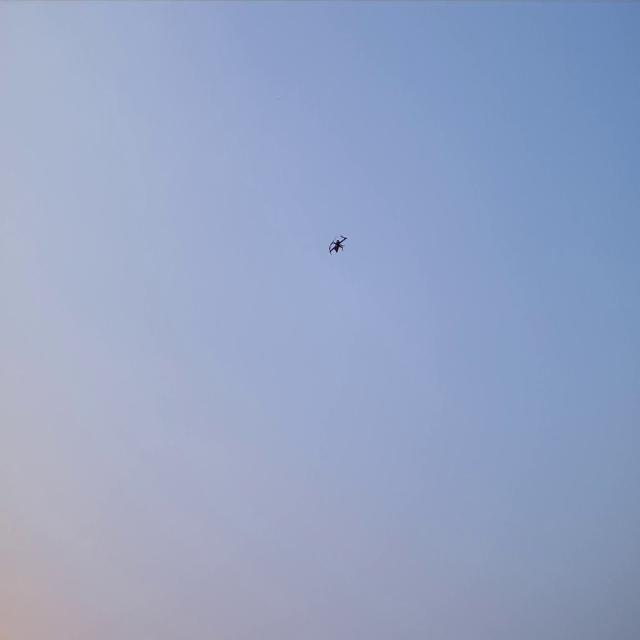UAV: (328, 234, 348, 256)
